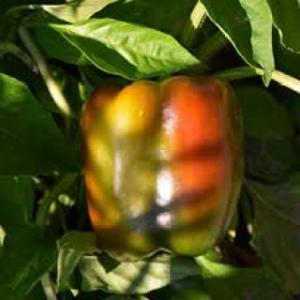bell_pepper: (58, 66, 248, 268)
